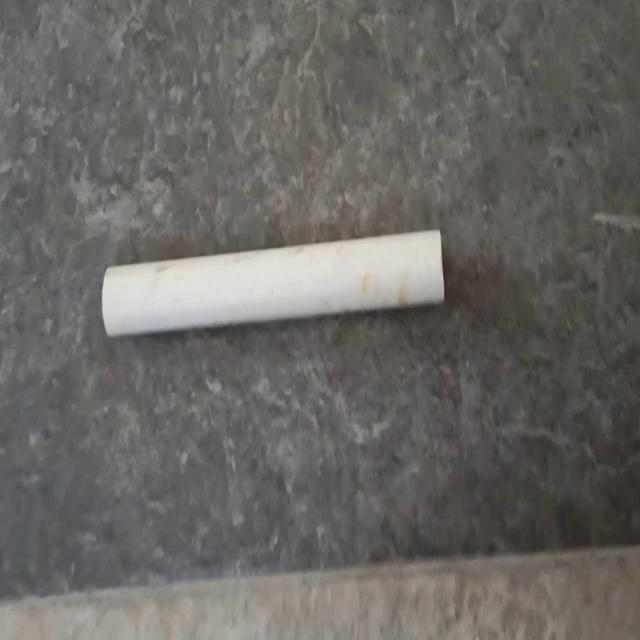Cube: (100, 225, 446, 338)
